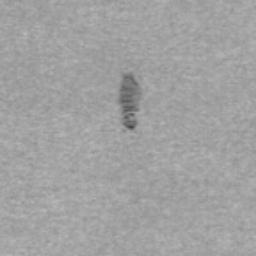Secondary rust skin: (120, 73, 142, 130)
